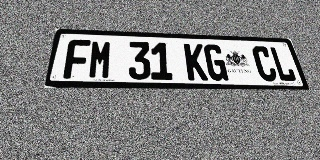1: (150, 42, 173, 80)
3: (129, 41, 151, 80)
C: (251, 46, 279, 81)
F: (63, 39, 91, 79)
G: (203, 44, 229, 81)
K: (184, 43, 208, 81)
L: (269, 47, 297, 82)
M: (88, 40, 113, 79)
